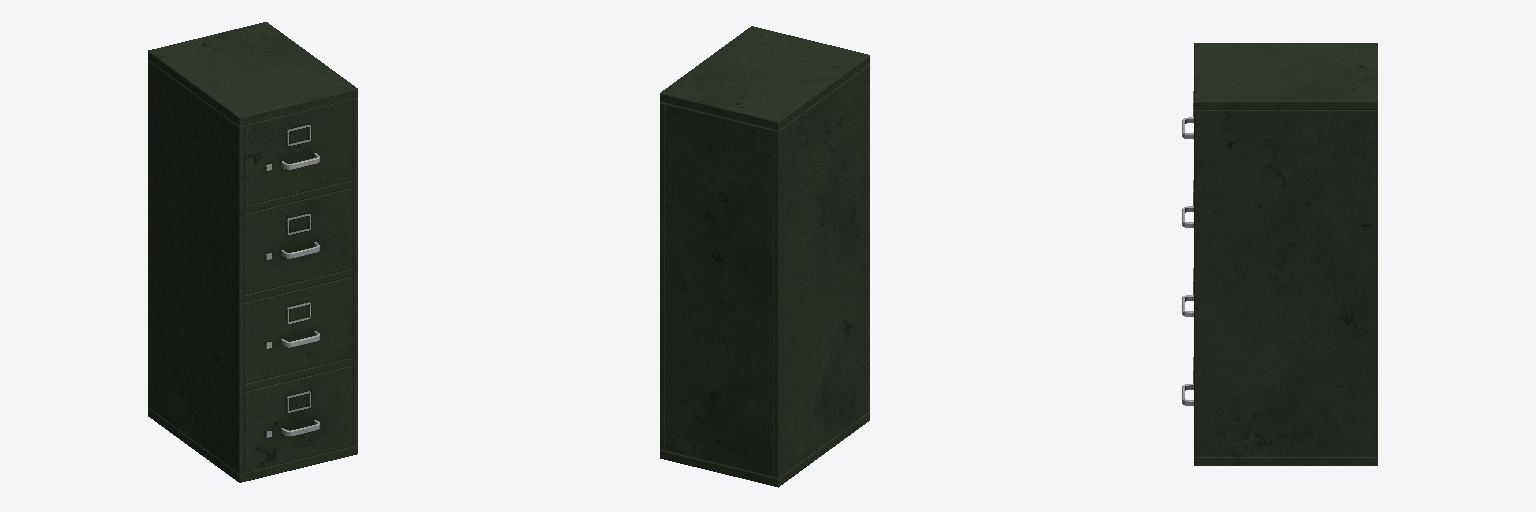
3 renders of one model, left to right at view 1: azimuth 30°, elevation 25°; view 2: azimuth 150°, elevation 25°; view 3: azimuth 270°, elevation 25°, orthographic.
Parts seen in each view (by area): view 1: body1_Cube.002, body2_Cube; view 2: body1_Cube.002; view 3: body1_Cube.002, body2_Cube.
Part boxes in pixels (x1,y1,x2,y2): body1_Cube.002: (148, 22, 357, 482); body2_Cube: (244, 99, 352, 471); body1_Cube.002: (660, 26, 869, 487); body1_Cube.002: (1194, 43, 1377, 465); body2_Cube: (1182, 91, 1193, 405).
Size of the model in its own units: 0.5284 by 1.56 by 0.7499.
Materials: 1 (1 with a texture image).